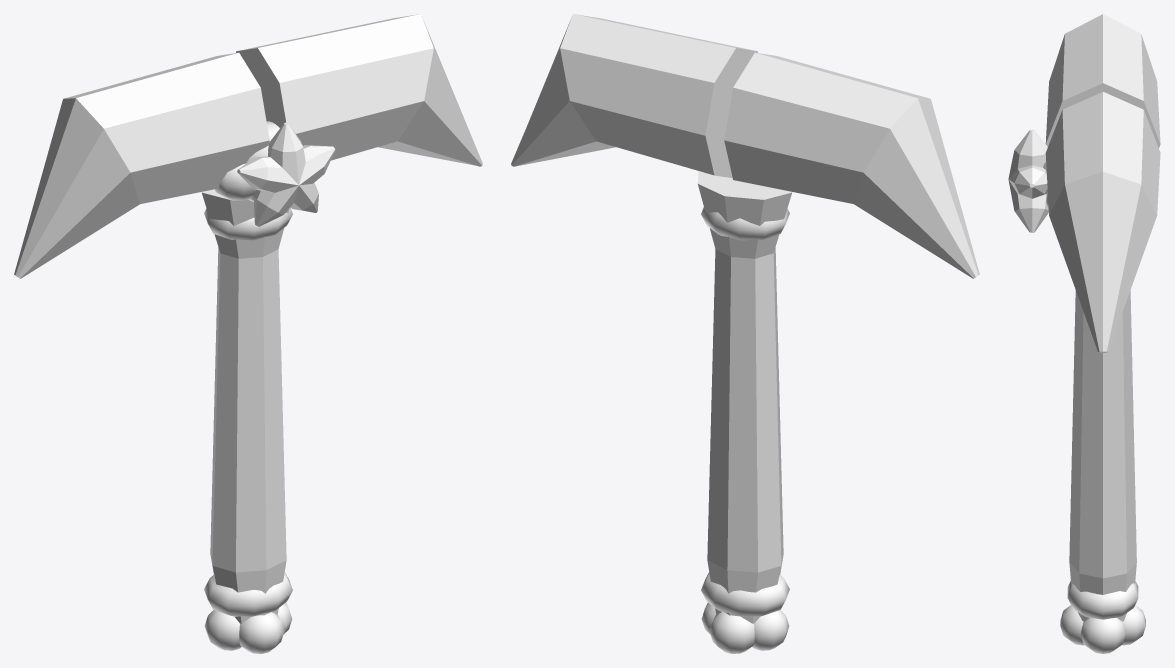
Rendered from pickaxe.obj.
The picture shows the model from 3 angles, left to right: view 1: azimuth 30°, elevation 25°; view 2: azimuth 150°, elevation 25°; view 3: azimuth 270°, elevation 25°; orthographic projection. The views are drawn at different scales.
Visible parts, largest first — view 1: head, handle, ornaments; view 2: head, handle; view 3: head, handle, ornaments.
Boxes of the visible parts, x1,y1,x2,y2 form: head: [14, 14, 482, 278]; handle: [201, 189, 292, 653]; ornaments: [215, 121, 335, 226]; head: [511, 14, 979, 278]; handle: [697, 171, 792, 653]; head: [1045, 14, 1160, 352]; handle: [1060, 290, 1145, 653]; ornaments: [1008, 129, 1048, 232].
Size of the model in its own units: 0.6218 by 0.7562 by 0.1877.
